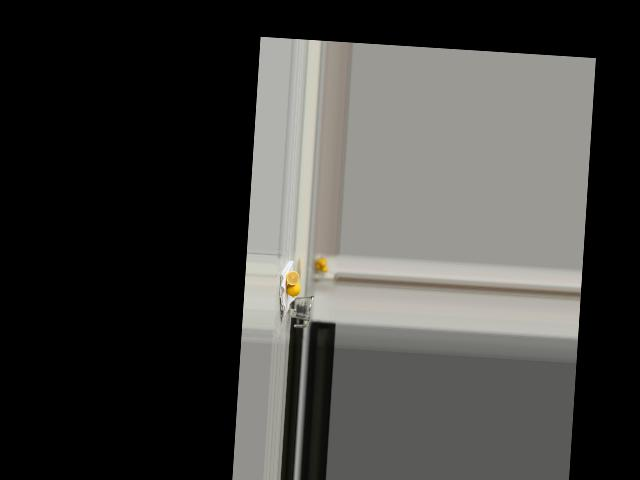lemon: (286, 279, 301, 298)
